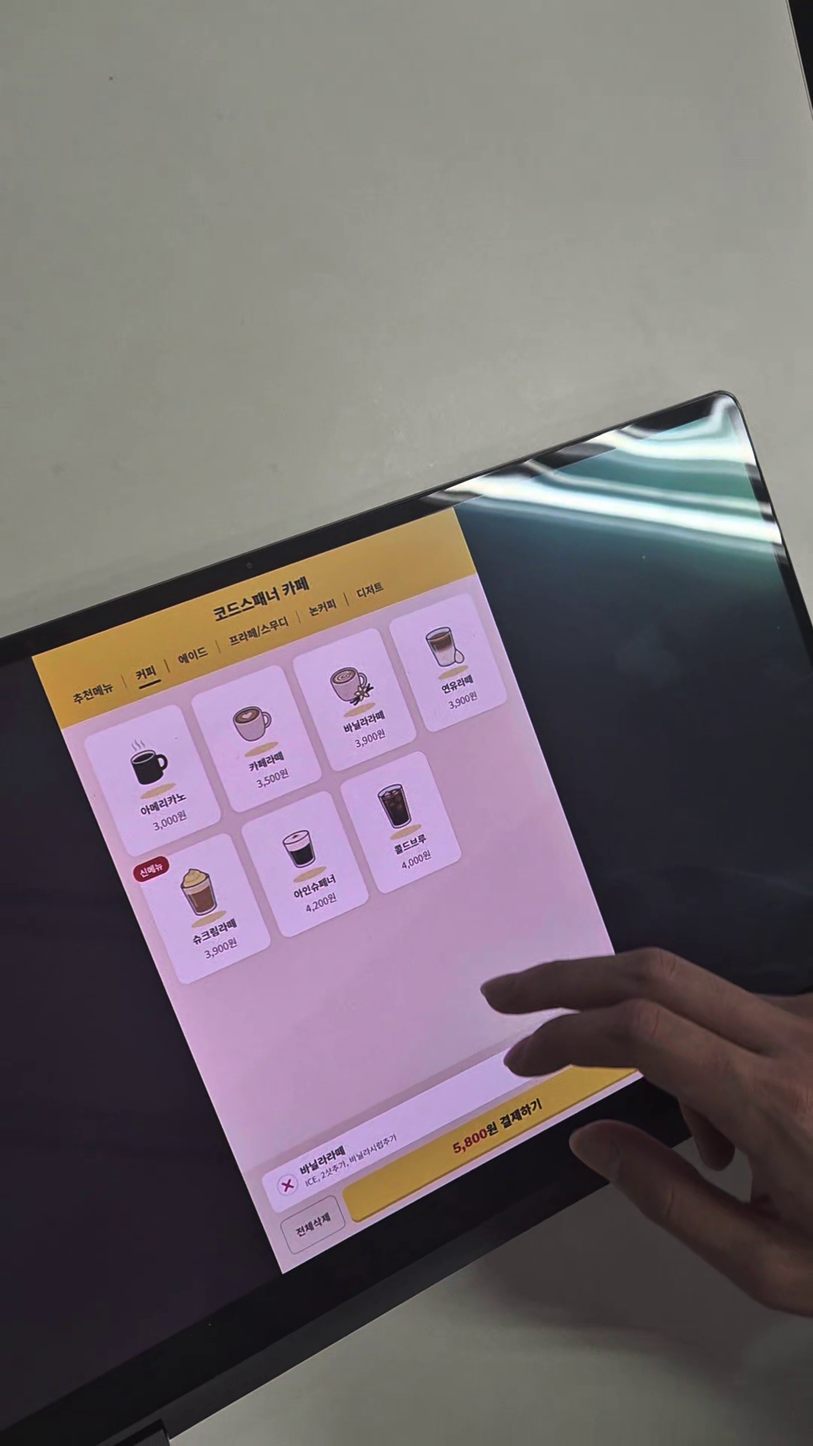action_button: (339, 1041, 644, 1223), (278, 1193, 347, 1255)
cart_item: (258, 998, 630, 1215)
category_tab: (222, 613, 292, 654), (67, 676, 118, 713), (167, 641, 215, 676), (349, 576, 392, 604), (127, 660, 165, 689), (303, 595, 342, 621)
menu_back: (82, 701, 225, 859), (133, 833, 271, 981), (191, 664, 324, 816), (239, 790, 373, 940), (291, 626, 423, 776), (384, 587, 515, 738), (337, 747, 469, 896)
menu_name: (188, 913, 246, 950), (133, 785, 190, 822), (431, 664, 488, 701), (335, 703, 392, 740), (238, 744, 295, 781), (286, 867, 343, 904), (383, 825, 440, 862)
menu_price: (248, 766, 294, 797), (146, 809, 192, 839), (299, 890, 345, 920), (199, 937, 245, 967), (347, 726, 393, 756), (440, 688, 486, 718), (394, 848, 440, 878)
